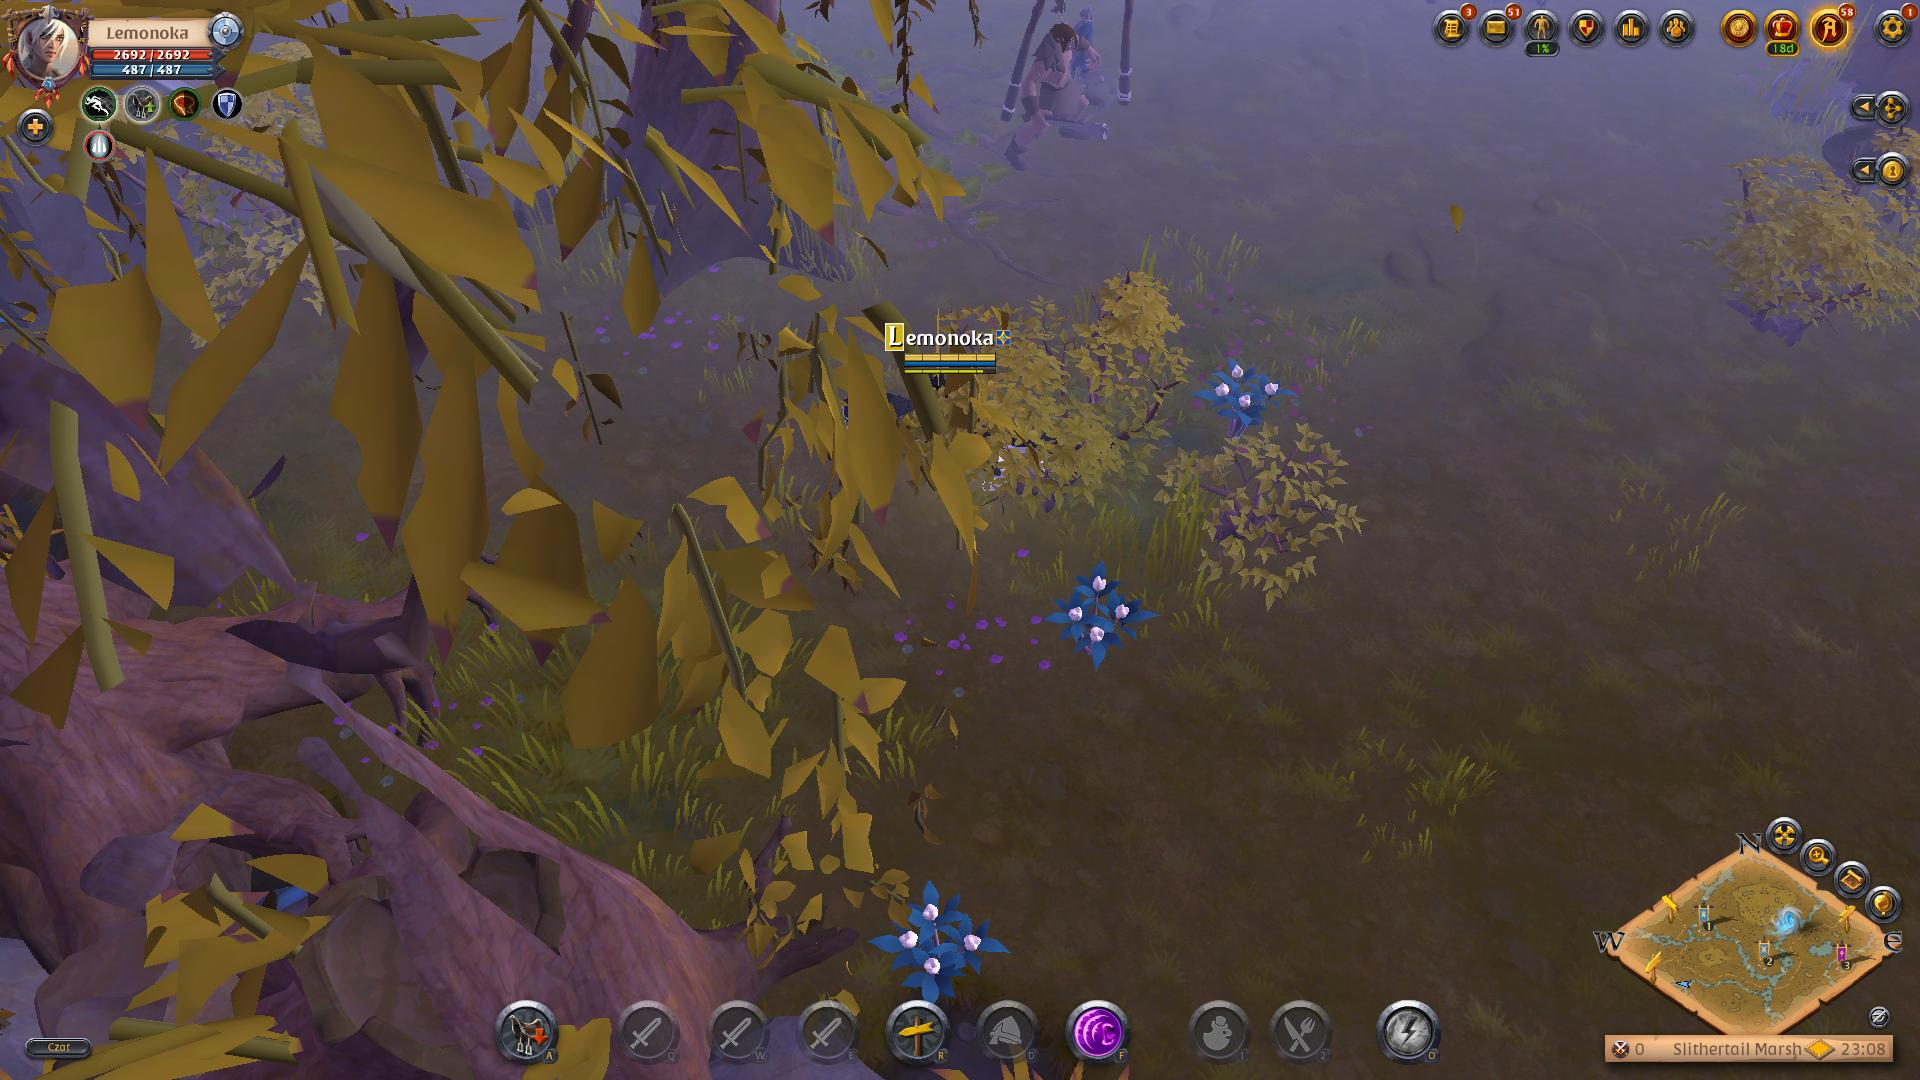fiber tier 4: (877, 878, 1011, 997), (1034, 562, 1162, 674), (1200, 349, 1288, 443)
